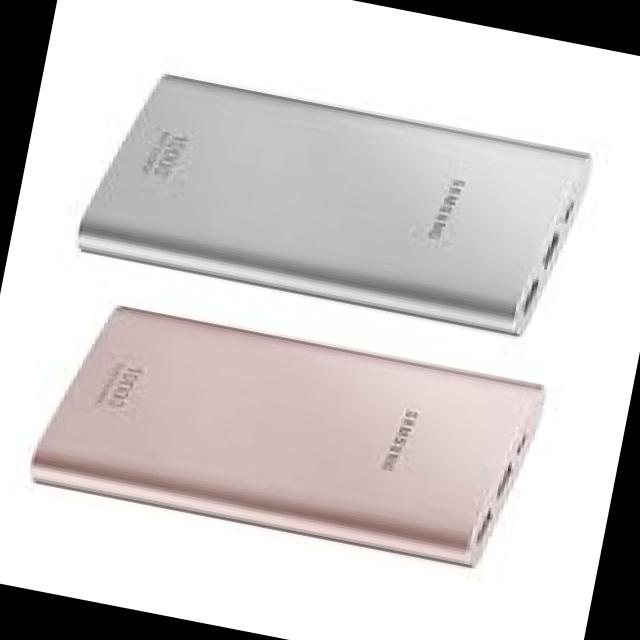portable-charger: (21, 288, 550, 578), (70, 59, 596, 348)
